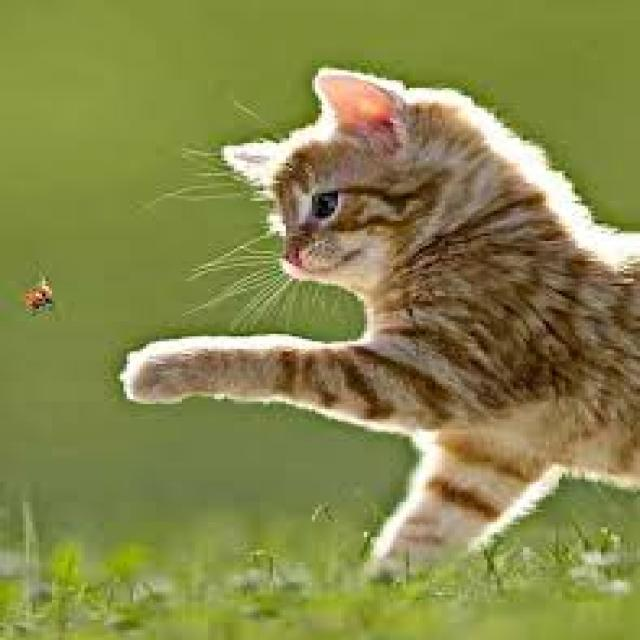Cat: (113, 64, 640, 592)
